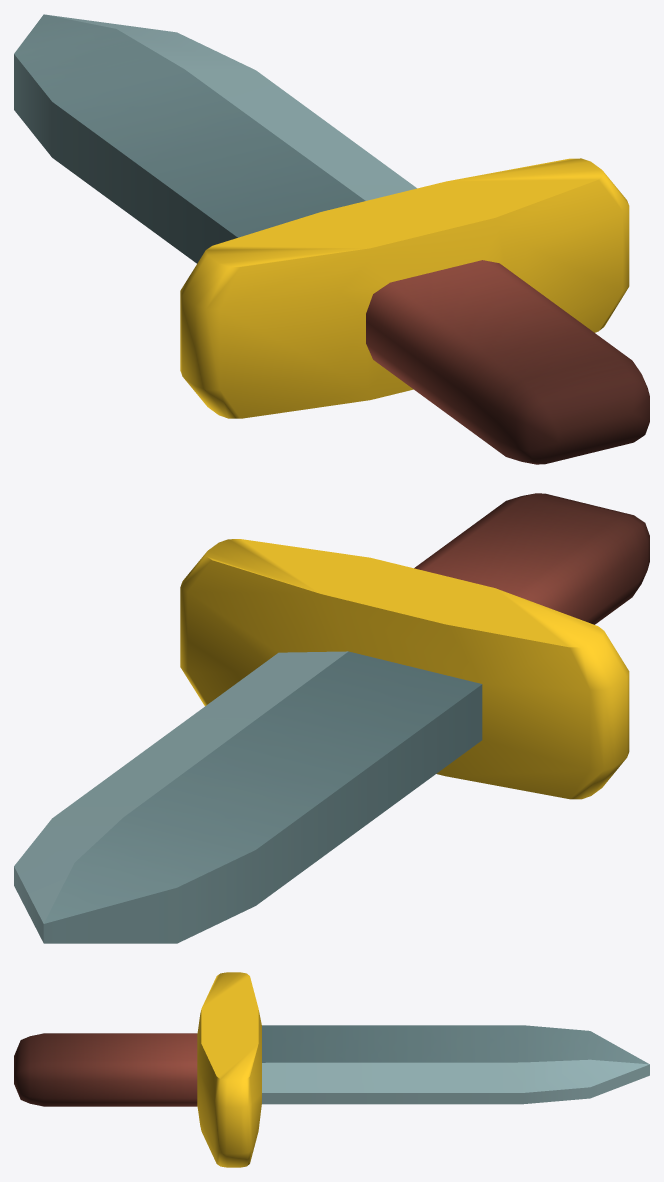
The model's file is Knife.fbx.
3 renders of one model, top to bottom at view 1: azimuth 30°, elevation 25°; view 2: azimuth 150°, elevation 25°; view 3: azimuth 270°, elevation 25°, orthographic. The views are drawn at different scales.
Visible parts, largest first — view 1: Knife; view 2: Knife; view 3: Knife.
Boxes of the visible parts, left/top/right/bottom form: Knife: left=14, top=14, right=649, bottom=464; Knife: left=14, top=493, right=649, bottom=943; Knife: left=14, top=972, right=649, bottom=1167.
Bounding box in the file's own units: 232 × 77.9 × 513.
